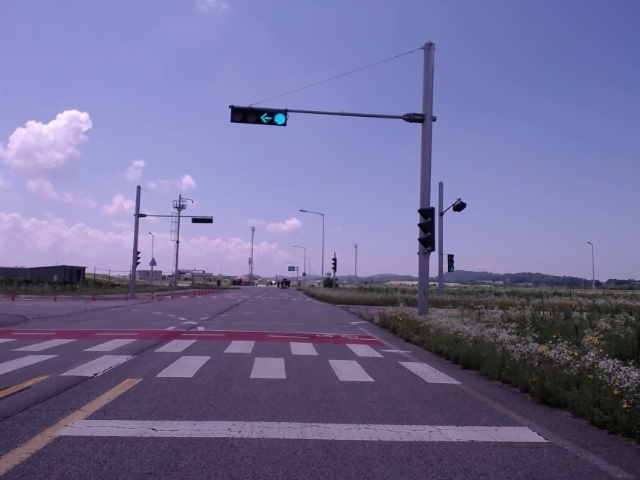all_green_4: (234, 105, 287, 126)
